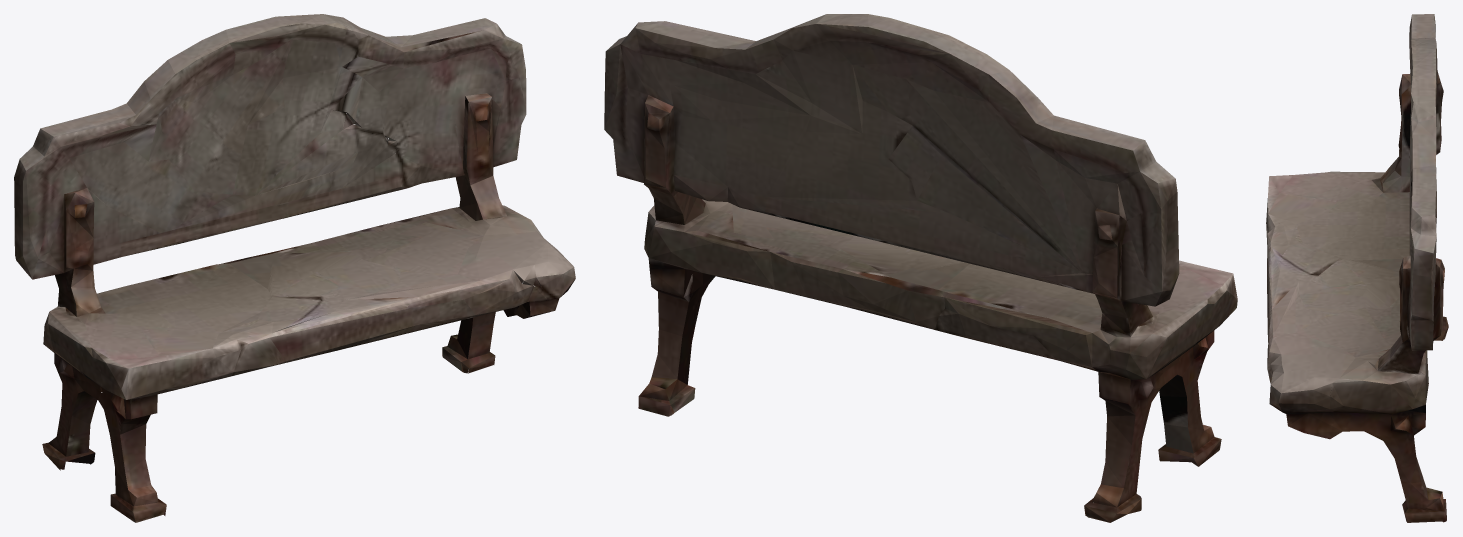
The model's file is park_stone_bench_1117.glb.
3 renders of one model, left to right at view 1: azimuth 30°, elevation 25°; view 2: azimuth 150°, elevation 25°; view 3: azimuth 270°, elevation 25°, orthographic. The views are drawn at different scales.
Visible parts, largest first — view 1: world; view 2: world; view 3: world.
Boxes of the visible parts, <box> form: world: <box>14,14,575,522</box>; world: <box>604,14,1237,522</box>; world: <box>1266,14,1448,522</box>.
Size of the model in its own units: 1.36 by 1 by 0.4588.
1 material, 1 textured.
